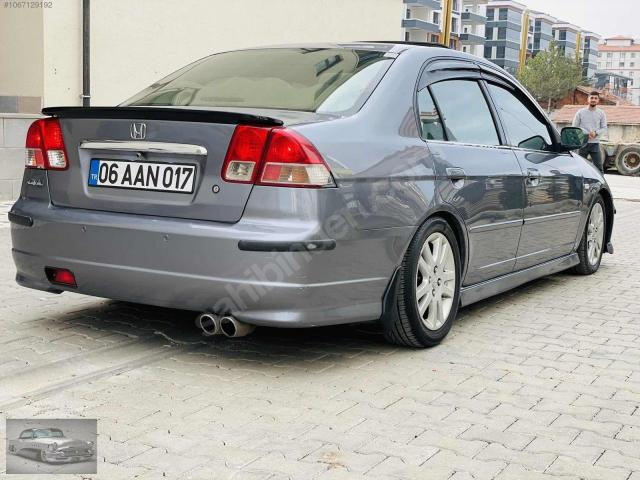plaka: (88, 158, 196, 194)
